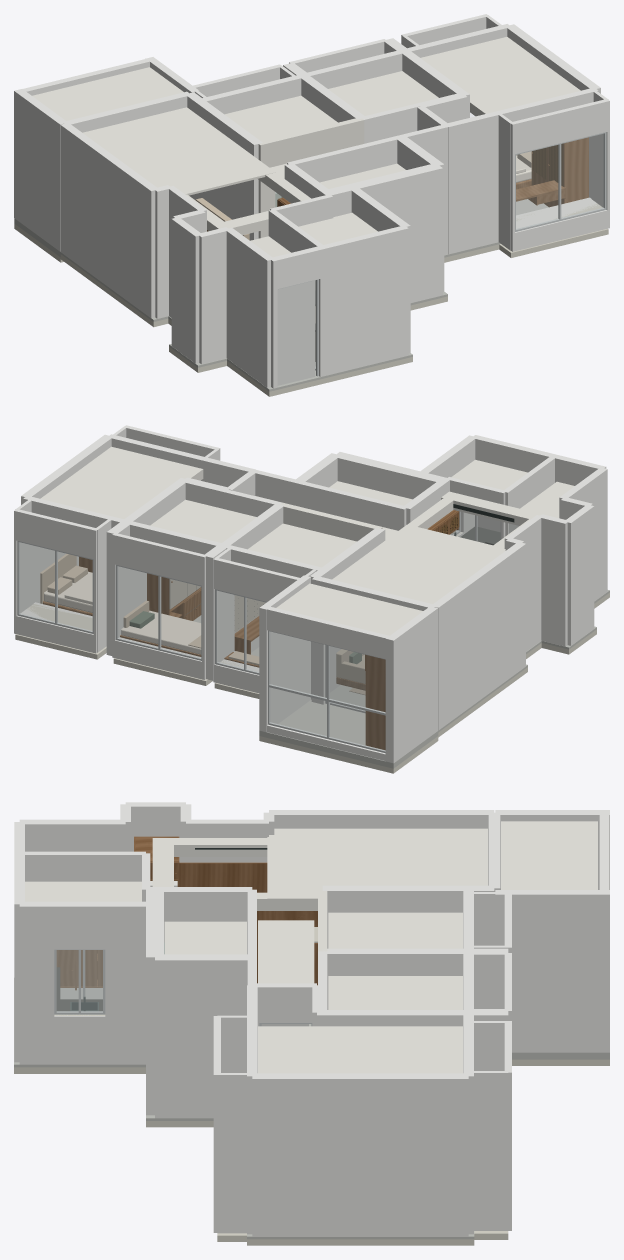
The model's file is MYM-07-入户齐平.glb.
The picture shows the model from 3 angles, top to bottom: view 1: azimuth 30°, elevation 25°; view 2: azimuth 150°, elevation 25°; view 3: azimuth 270°, elevation 25°; orthographic projection. The views are drawn at different scales.
Parts seen in each view (by area): view 1: W-living-west-jamb-0, W-kitchen-exterior-south-jamb-0, C-panel-living, W-bay-master-bottom-room-jamb-0, C-panel-master, W-balcony-left-jamb-0, W-entry-west-jamb-0, W-bathroom-south-jamb-3, C-panel-balcony, W-west-niche-jamb-0, D-entry-leaf, W-west-return-south-jamb-0 (+54 smaller); view 2: W-living-west-jamb-0, C-panel-living, W-balcony-left-jamb-0, C-panel-master, WIN-balcony-glass-b, WIN-balcony-glass-a, W-balcony-right-jamb-0, C-panel-balcony, W-west-niche-jamb-0, W-west-return-jamb-0, FIN-balcony-pending, W-balcony-front-lintel-2 (+72 smaller); view 3: W-master-east-jamb-0, W-balcony-right-jamb-0, C-panel-living, W-bathroom-east-jamb-0, C-panel-master, W-kitchen-exterior-east-jamb-0, C-panel-balcony, W-kitchen-exterior-east-jamb-3, W-bay-master-top-right-jamb-0, C-panel-bedroom1, W-bay-master-bottom-right-jamb-0, C-panel-bedroom2 (+43 smaller).
Part boxes in pixels (x1=…): W-living-west-jamb-0: x1=60, y1=124, x2=157, y2=318; W-kitchen-exterior-south-jamb-0: x1=321, y1=225, x2=408, y2=375; C-panel-living: x1=82, y1=107, x2=275, y2=195; W-bay-master-bottom-room-jamb-0: x1=445, y1=111, x2=499, y2=254; C-panel-master: x1=421, y1=37, x2=580, y2=113; W-balcony-left-jamb-0: x1=14, y1=89, x2=65, y2=251; W-entry-west-jamb-0: x1=226, y1=227, x2=273, y2=387; W-bathroom-south-jamb-3: x1=390, y1=164, x2=442, y2=302; C-panel-balcony: x1=32, y1=67, x2=183, y2=120; W-west-niche-jamb-0: x1=171, y1=217, x2=202, y2=363; D-entry-leaf: x1=277, y1=280, x2=315, y2=385; W-west-return-south-jamb-0: x1=199, y1=227, x2=229, y2=364; W-living-west-jamb-0: x1=432, y1=542, x2=525, y2=730; C-panel-living: x1=332, y1=524, x2=505, y2=603; W-balcony-left-jamb-0: x1=385, y1=606, x2=438, y2=763; C-panel-master: x1=40, y1=446, x2=202, y2=518; WIN-balcony-glass-b: x1=269, y1=632, x2=326, y2=736; WIN-balcony-glass-a: x1=329, y1=646, x2=385, y2=750; W-balcony-right-jamb-0: x1=259, y1=575, x2=310, y2=732; C-panel-balcony: x1=276, y1=583, x2=422, y2=635; W-west-niche-jamb-0: x1=566, y1=504, x2=594, y2=645; W-west-return-jamb-0: x1=538, y1=514, x2=569, y2=646; FIN-balcony-pending: x1=259, y1=699, x2=438, y2=768; W-balcony-front-lintel-2: x1=267, y1=606, x2=389, y2=658; W-master-east-jamb-0: x1=252, y1=1073, x2=468, y2=1236; W-balcony-right-jamb-0: x1=495, y1=890, x2=609, y2=1052; C-panel-living: x1=267, y1=828, x2=487, y2=901; W-bathroom-east-jamb-0: x1=155, y1=954, x2=251, y2=1118; C-panel-master: x1=258, y1=1026, x2=462, y2=1073; W-kitchen-exterior-east-jamb-0: x1=105, y1=901, x2=145, y2=1064; C-panel-balcony: x1=501, y1=821, x2=597, y2=889; W-kitchen-exterior-east-jamb-3: x1=19, y1=901, x2=54, y2=1064; W-bay-master-top-right-jamb-0: x1=468, y1=1071, x2=508, y2=1230; C-panel-bedroom1: x1=328, y1=912, x2=462, y2=948; W-bay-master-bottom-right-jamb-0: x1=217, y1=1073, x2=251, y2=1233; C-panel-bedroom2: x1=328, y1=976, x2=462, y2=1009.
Size of the model in its own units: 11.08 by 3.2 by 10.08.
26 materials, 8 textured.
